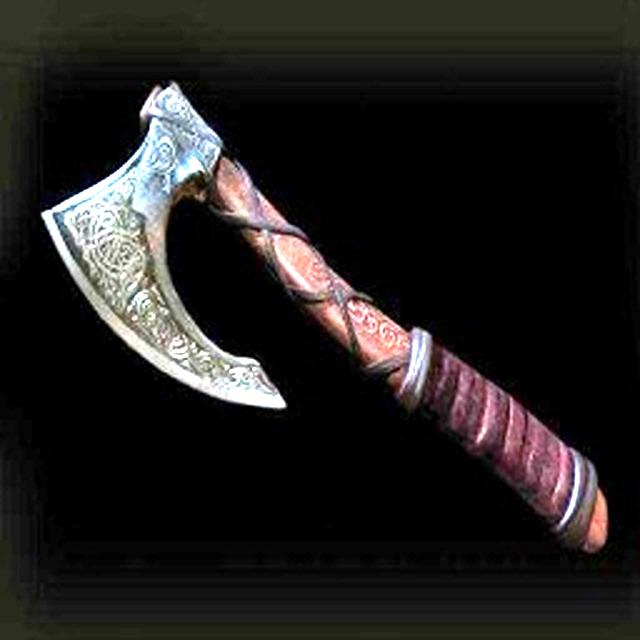ax: (32, 72, 620, 571)
